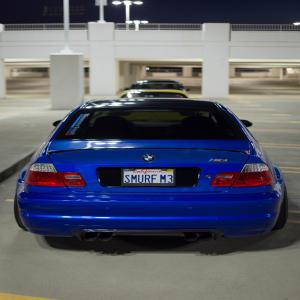Vehicle-registration-plate: (121, 170, 176, 187)
